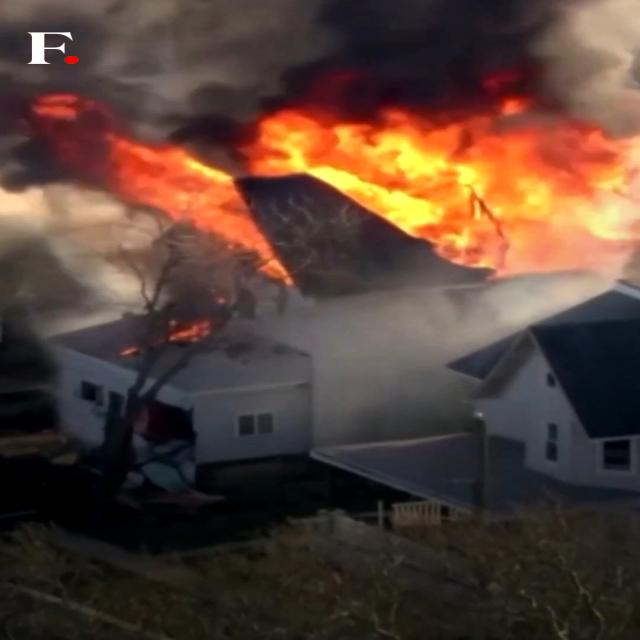Fire: (259, 70, 640, 281), (43, 102, 251, 279)
Smoke: (93, 0, 640, 108)
